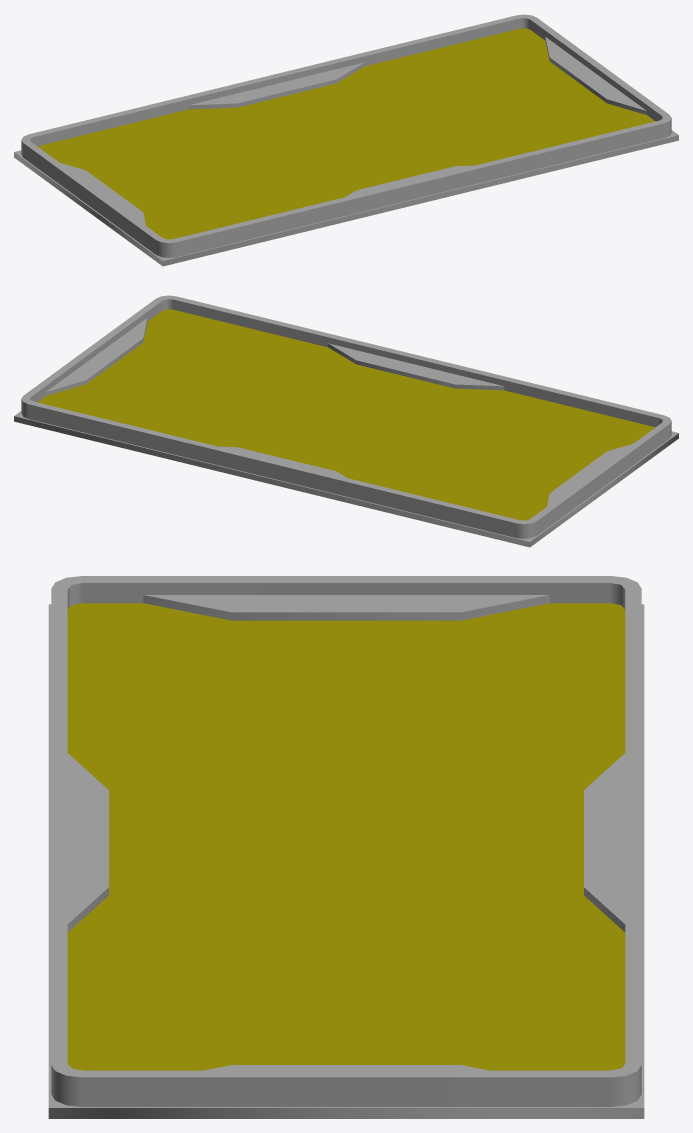
Rendered from SM_Ceiling_06_A.fbx.
The picture shows the model from 3 angles, top to bottom: view 1: azimuth 30°, elevation 25°; view 2: azimuth 150°, elevation 25°; view 3: azimuth 270°, elevation 25°; orthographic projection. The views are drawn at different scales.
Visible parts, largest first — view 1: polySurface939; view 2: polySurface939; view 3: polySurface939.
Boxes of the visible parts, left/top/right/bottom form: polySurface939: left=14, top=14, right=678, bottom=266; polySurface939: left=14, top=295, right=678, bottom=547; polySurface939: left=48, top=576, right=644, bottom=1118.
Bounding box in the file's own units: 400 × 14.96 × 200.
